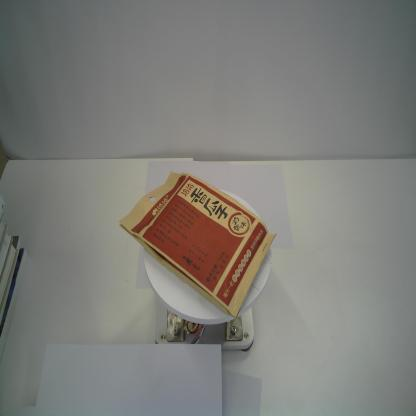Dried Food: (118, 170, 278, 320)
